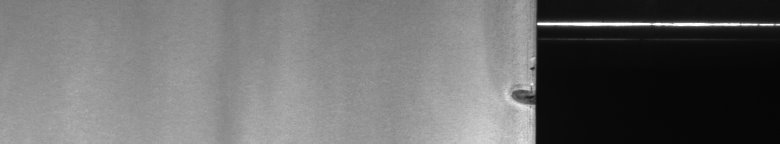hb: (504, 76, 524, 112)
